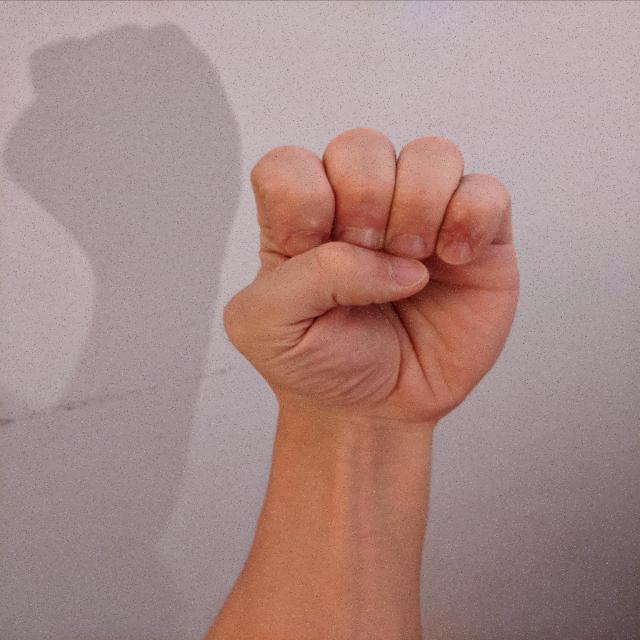E: (217, 124, 526, 428)
